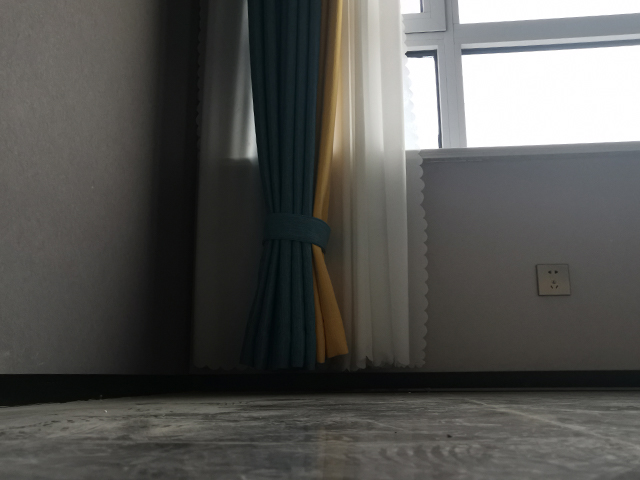curtain: (185, 1, 434, 378)
